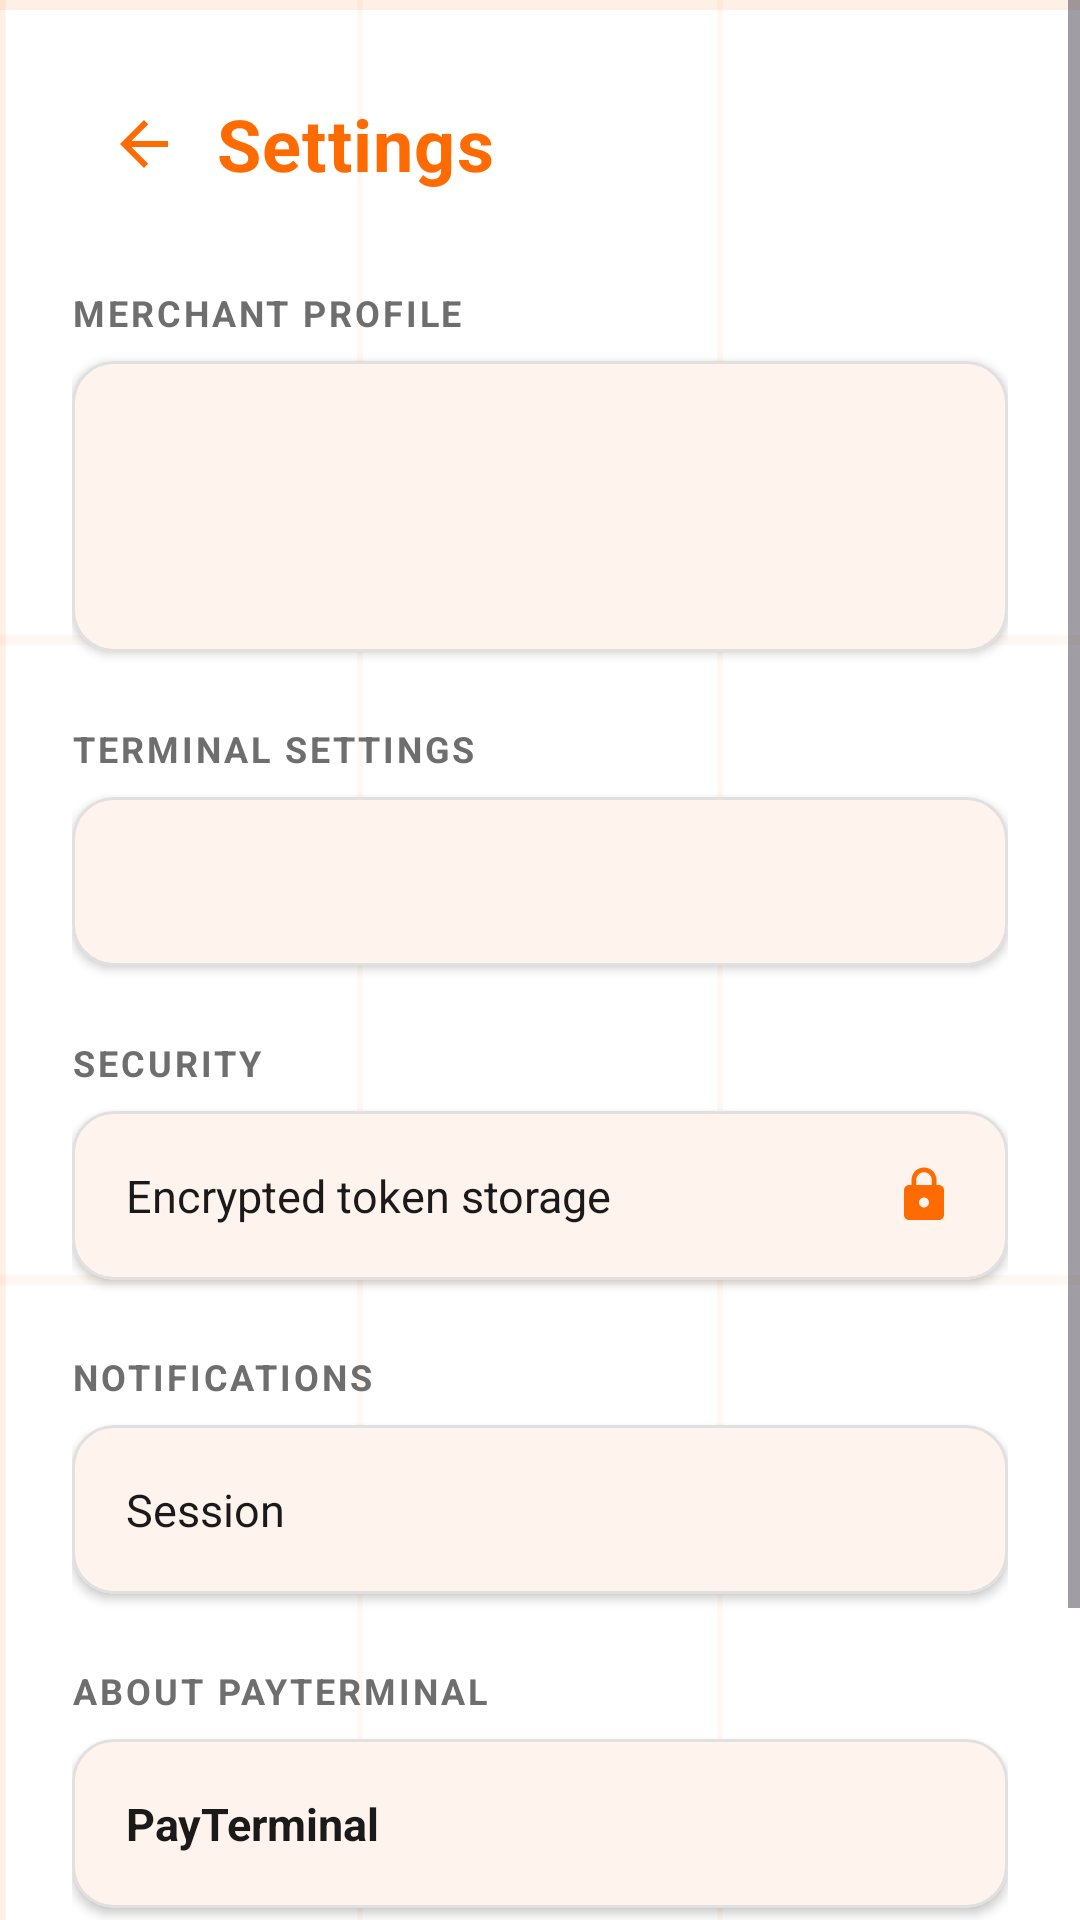

Named icons in this screenshot (1080px x 1920px) and their bounding boxes, bbox=[x1, y1, x2, y2]:
Security: bbox=[904, 1167, 944, 1220]
